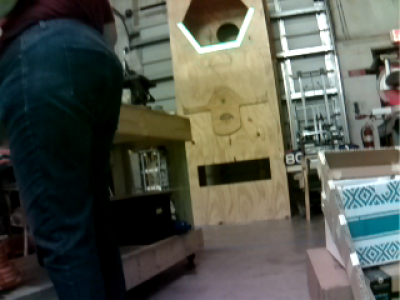target: (178, 7, 254, 53)
